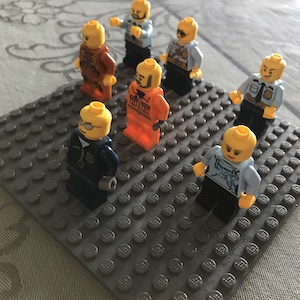Lego: (192, 127, 264, 223), (63, 101, 118, 209), (231, 52, 287, 141), (123, 61, 166, 147), (75, 20, 115, 100), (160, 18, 202, 93), (120, 1, 154, 70)
